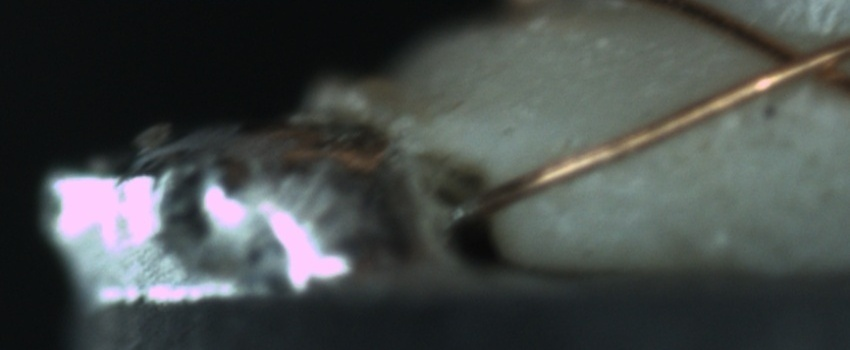CL: (745, 25, 844, 96)
